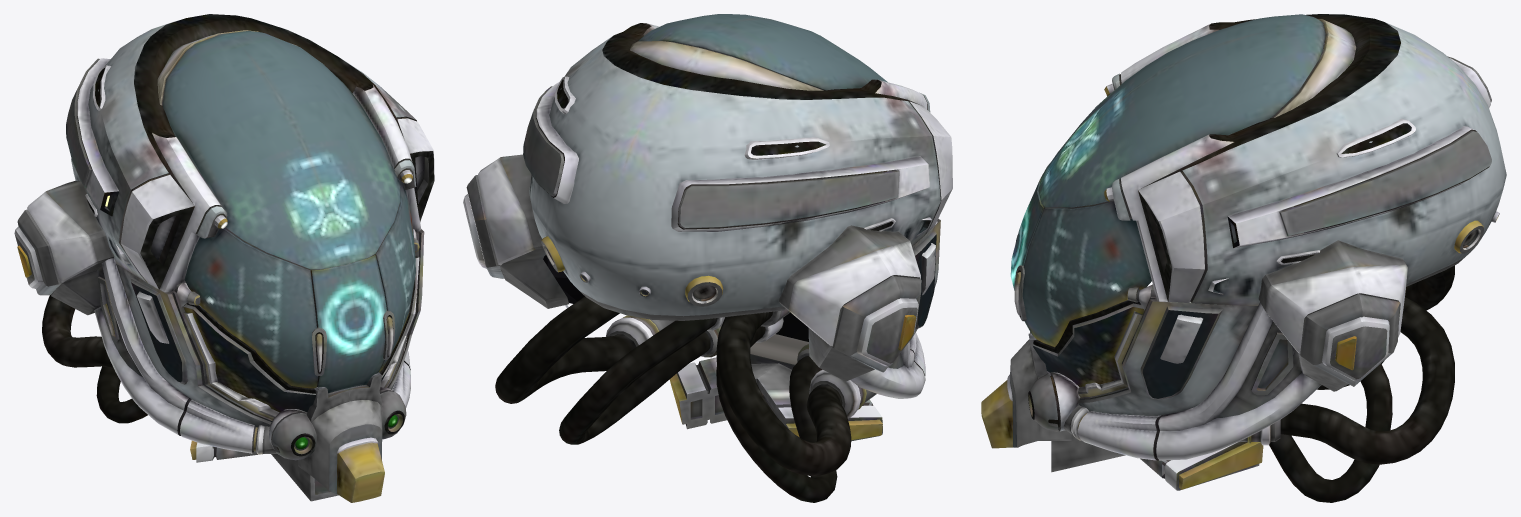
File: helmet-low.glb
3 renders of one model, left to right at view 1: azimuth 30°, elevation 25°; view 2: azimuth 150°, elevation 25°; view 3: azimuth 270°, elevation 25°, orthographic. The views are drawn at different scales.
Parts seen in each view (by area): view 1: node_damagedHelmet_-6514; view 2: node_damagedHelmet_-6514; view 3: node_damagedHelmet_-6514.
Part boxes in pixels (left/top/right/bottom): node_damagedHelmet_-6514: left=14, top=14, right=434, bottom=502; node_damagedHelmet_-6514: left=463, top=14, right=952, bottom=502; node_damagedHelmet_-6514: left=981, top=14, right=1506, bottom=502.
Bounding box in the file's own units: 1.89 × 1.8 × 2.
1 material, 1 textured.
